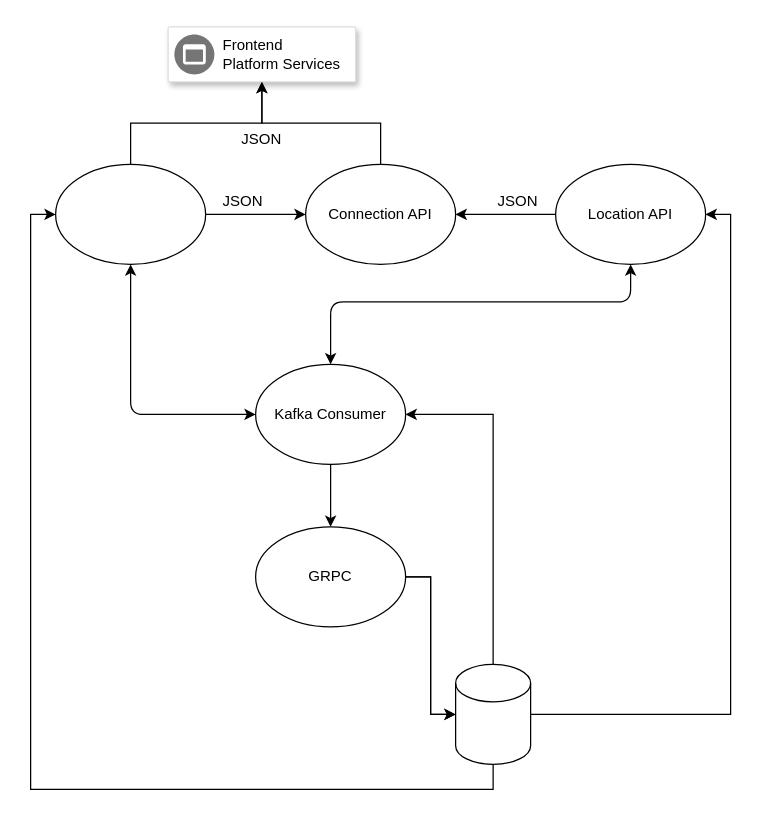
Some shapes in this 763 by 821 pixel diagram are drawn without their labels. Each missing label, with the centre of its shape:
DataBase: the point at 492,713
Person API: the point at 130,213
